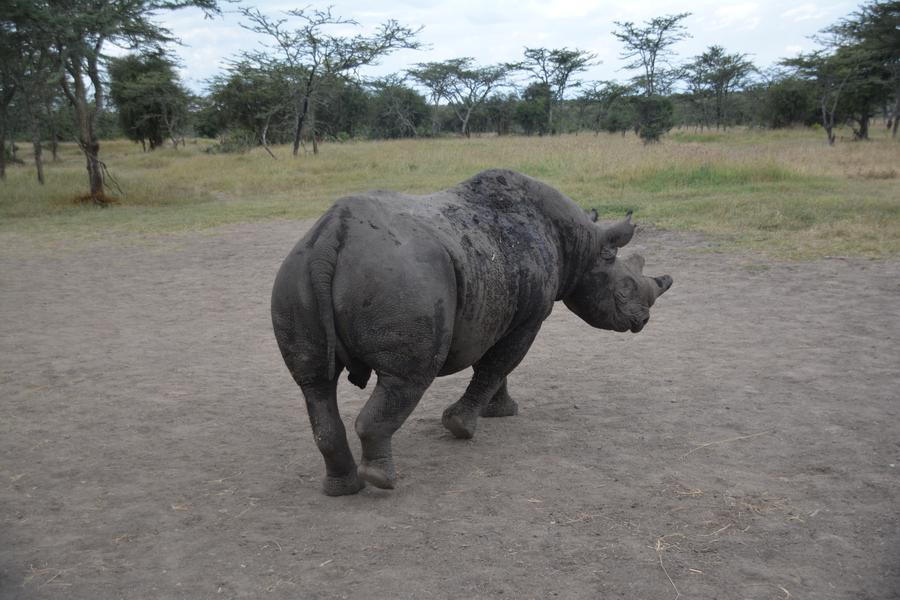rhino: (286, 169, 641, 485)
